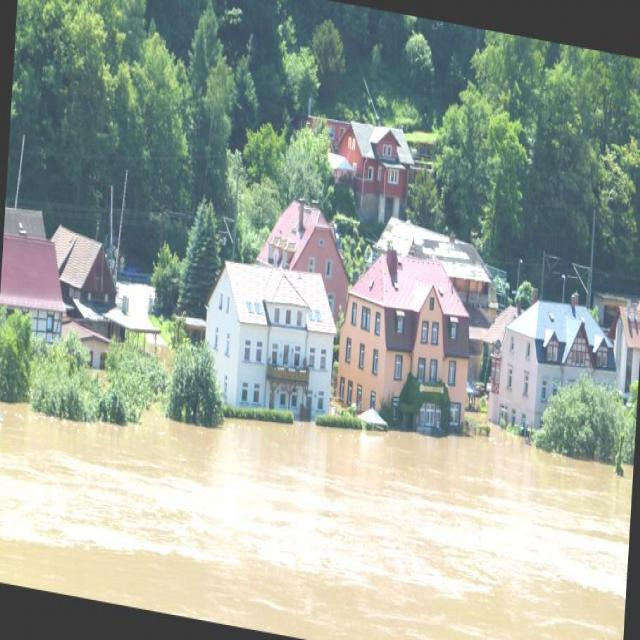flood: (0, 333, 634, 638)
